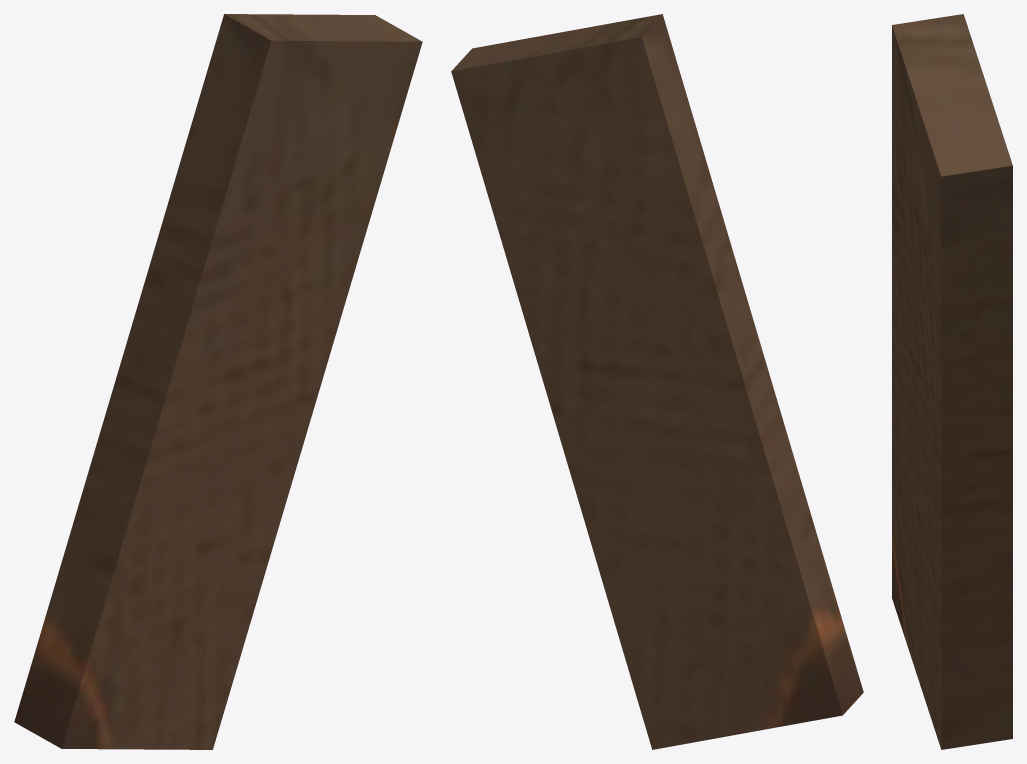
Rendered from fan_left__blade_1.glb.
The picture shows the model from 3 angles, left to right: view 1: azimuth 30°, elevation 25°; view 2: azimuth 150°, elevation 25°; view 3: azimuth 270°, elevation 25°; orthographic projection. The views are drawn at different scales.
Parts seen in each view (by area): view 1: geometry_0; view 2: geometry_0; view 3: geometry_0.
Part boxes in pixels (x1=…): geometry_0: x1=14, y1=14, x2=422, y2=749; geometry_0: x1=451, y1=14, x2=863, y2=749; geometry_0: x1=892, y1=14, x2=1012, y2=749.
Bounding box in the file's own units: 0.0168 × 0.0292 × 0.00428.
1 material, 1 textured.
